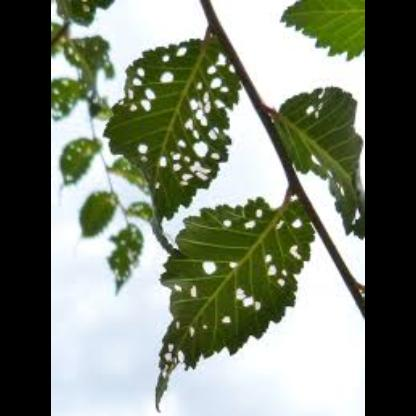agujero: (284, 241, 304, 263), (191, 139, 210, 159), (190, 161, 212, 173), (186, 94, 202, 110), (140, 97, 154, 114), (174, 46, 193, 58), (203, 258, 219, 272), (135, 144, 151, 158), (208, 76, 222, 92), (159, 68, 173, 84), (202, 91, 212, 113), (209, 124, 221, 141), (195, 110, 207, 127), (292, 216, 306, 230), (242, 295, 256, 309), (216, 51, 228, 67), (312, 100, 322, 119), (190, 286, 202, 300), (176, 348, 188, 362), (144, 88, 158, 100), (304, 102, 314, 118), (253, 208, 267, 219), (234, 287, 246, 299), (166, 342, 178, 354), (184, 118, 196, 130), (213, 97, 225, 109), (156, 158, 168, 170), (221, 316, 235, 326), (169, 150, 183, 160), (135, 67, 147, 78), (195, 172, 211, 180), (276, 276, 288, 286), (230, 260, 240, 272), (172, 318, 184, 328), (179, 178, 191, 188), (210, 152, 222, 162), (206, 64, 216, 76), (176, 136, 186, 148), (243, 219, 257, 227), (161, 363, 169, 377), (276, 219, 286, 230), (192, 130, 204, 139), (224, 219, 233, 231), (264, 252, 274, 262), (126, 88, 134, 100), (130, 102, 138, 114), (138, 155, 150, 163), (219, 85, 230, 93), (181, 174, 195, 180), (270, 266, 278, 276), (253, 300, 261, 310), (164, 352, 172, 362), (160, 53, 170, 61), (155, 180, 163, 190), (231, 64, 237, 76), (281, 268, 289, 276), (184, 155, 192, 163), (190, 326, 196, 336), (172, 163, 182, 169), (134, 79, 144, 85), (172, 286, 184, 290), (204, 323, 210, 331), (197, 80, 203, 88)
